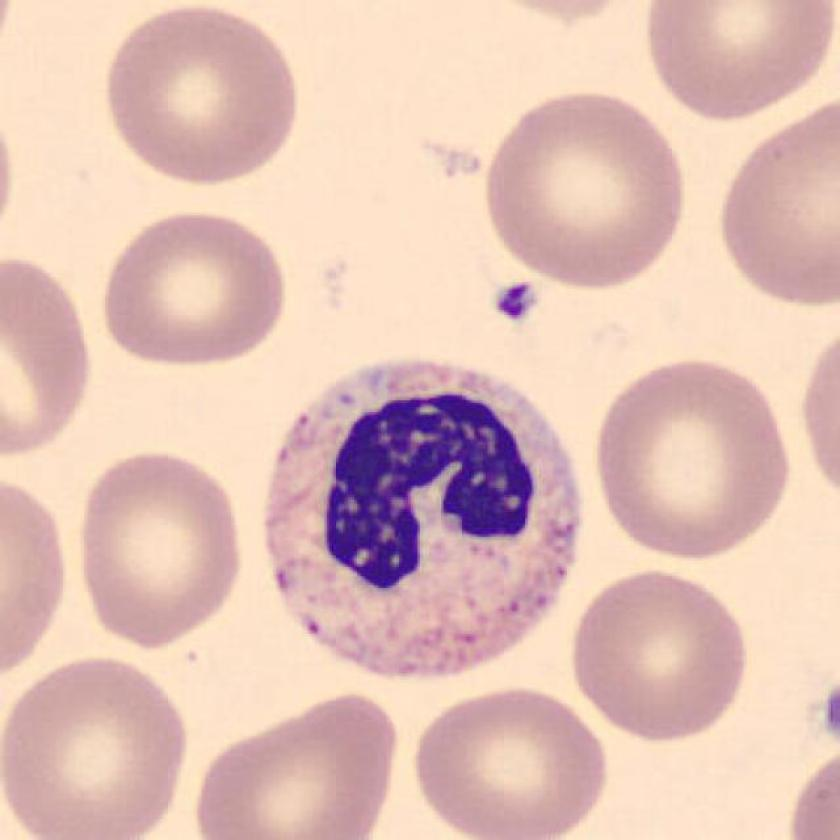neutrophil: (265, 364, 578, 679)
